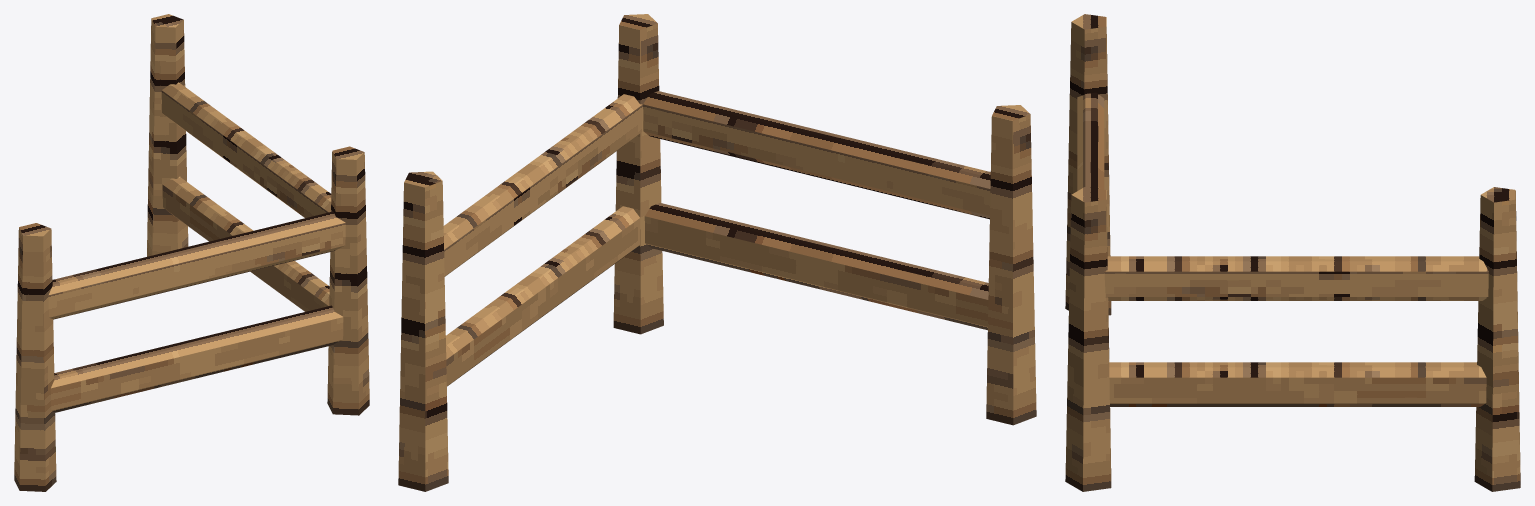
The model's file is enfeite_cerca_canto.glb.
The picture shows the model from 3 angles, left to right: view 1: azimuth 30°, elevation 25°; view 2: azimuth 150°, elevation 25°; view 3: azimuth 270°, elevation 25°; orthographic projection. The views are drawn at different scales.
Parts seen in each view (by area): view 1: deserto_enfeite_cerca_canto; view 2: deserto_enfeite_cerca_canto; view 3: deserto_enfeite_cerca_canto.
Part boxes in pixels (x1=…): deserto_enfeite_cerca_canto: x1=14, y1=14, x2=369, y2=491; deserto_enfeite_cerca_canto: x1=398, y1=14, x2=1036, y2=491; deserto_enfeite_cerca_canto: x1=1065, y1=14, x2=1520, y2=491.
Size of the model in its own units: 0.9389 by 0.65 by 0.9341.
1 material, 1 textured.
